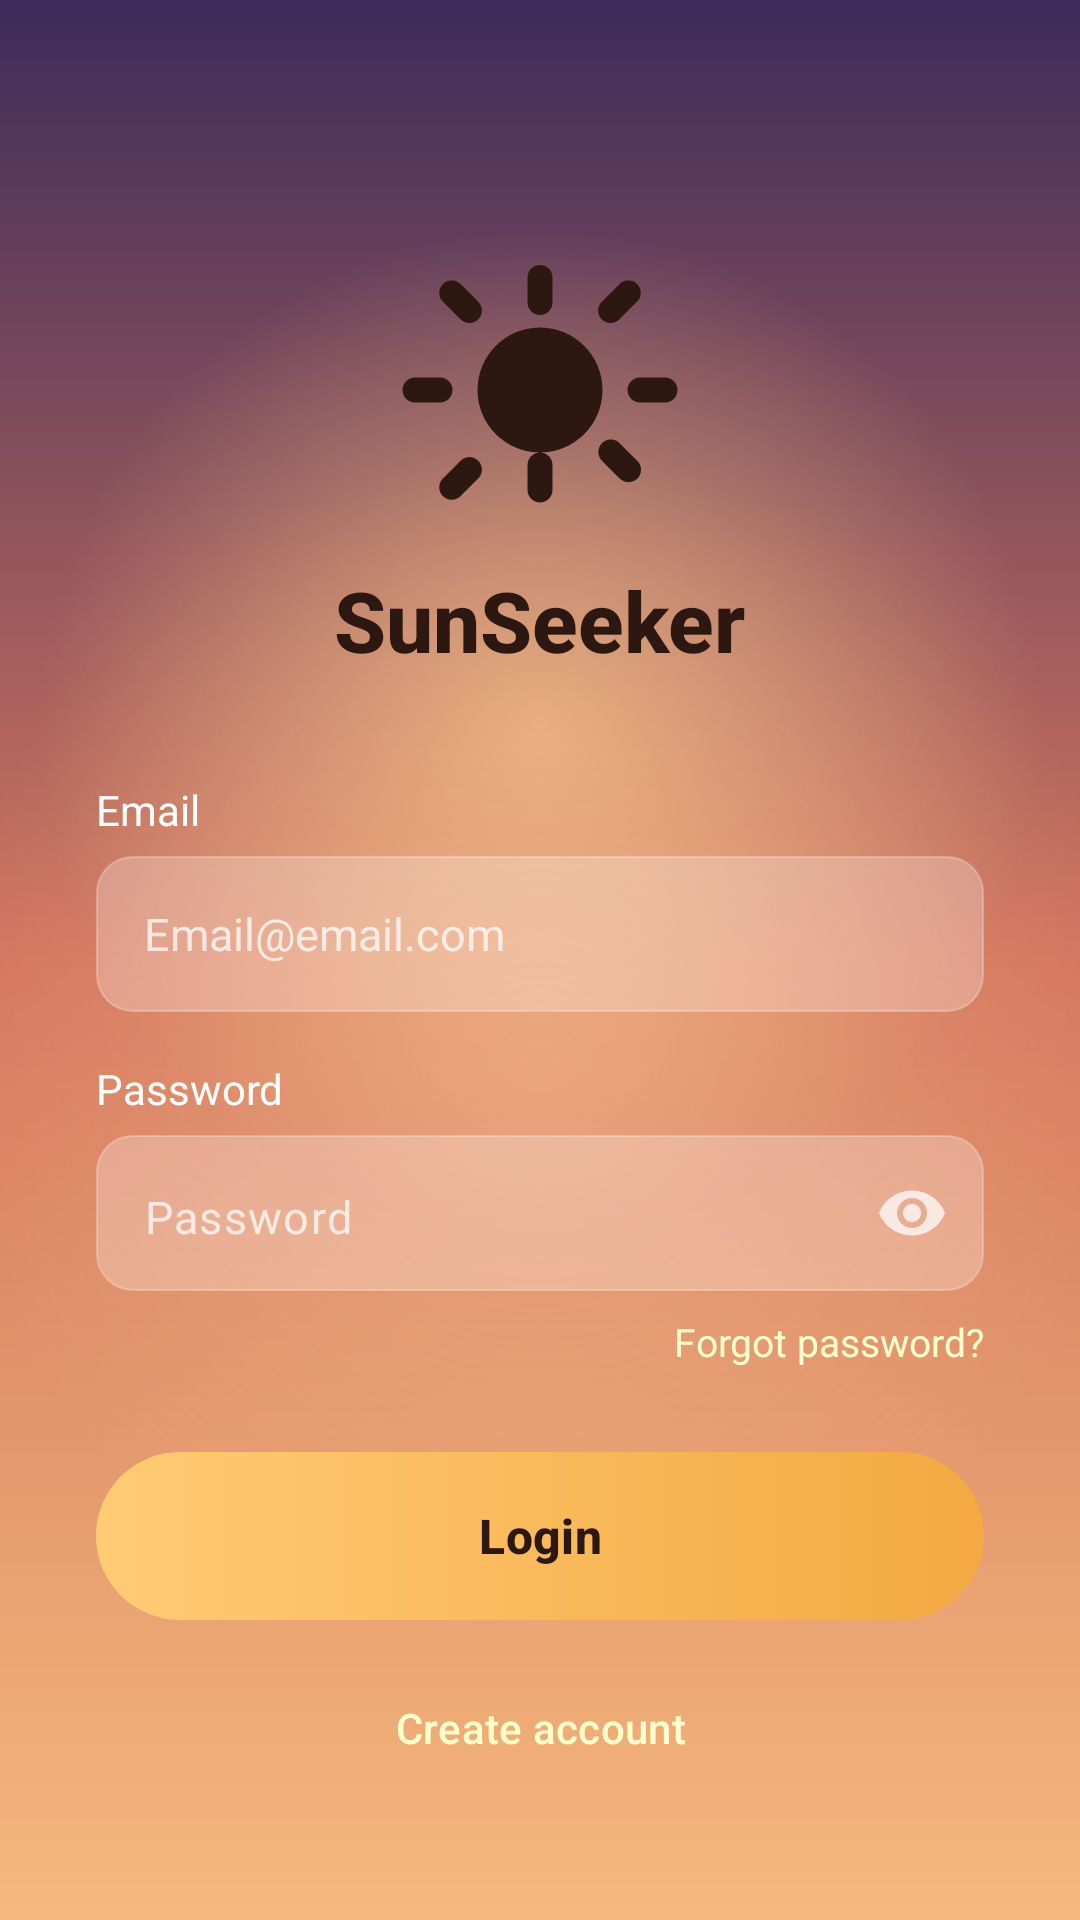

Screen size 1080 x 1920. Icon name, then its center in pixels as (x=x, y=y):
solar sun: (x=540, y=390)
